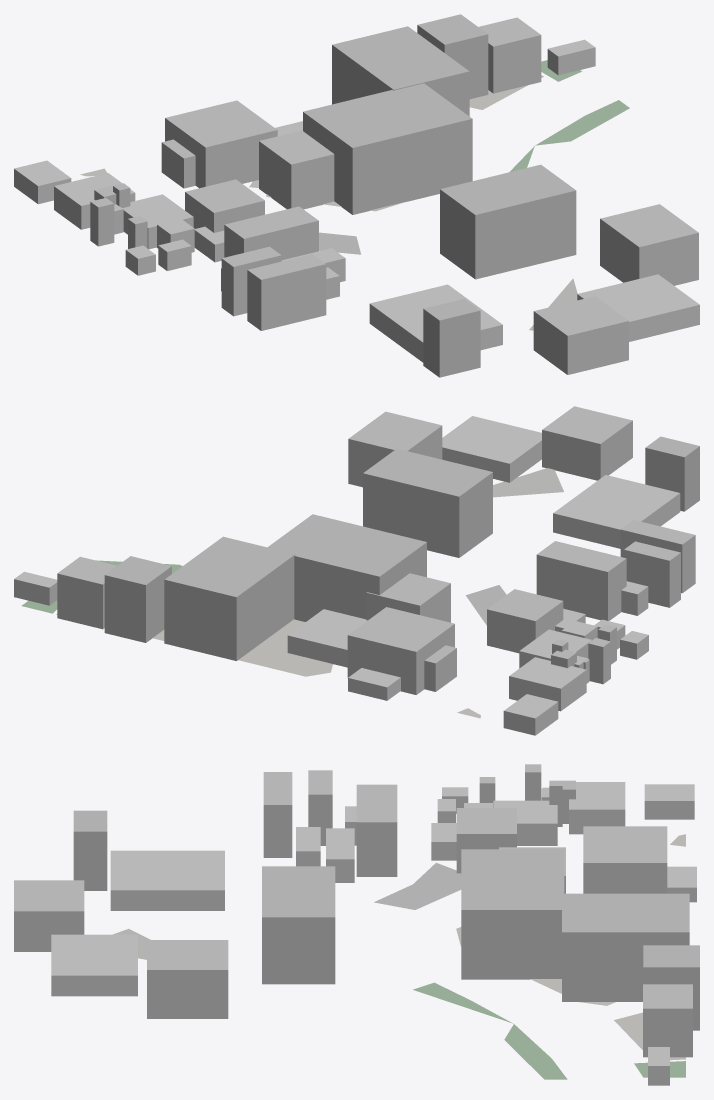
File: 131_92_mid.glb
3 renders of one model, top to bottom at view 1: azimuth 30°, elevation 25°; view 2: azimuth 150°, elevation 25°; view 3: azimuth 270°, elevation 25°, orthographic. The views are drawn at different scales.
Size of the model in its own units: 523 by 62.67 by 536.
